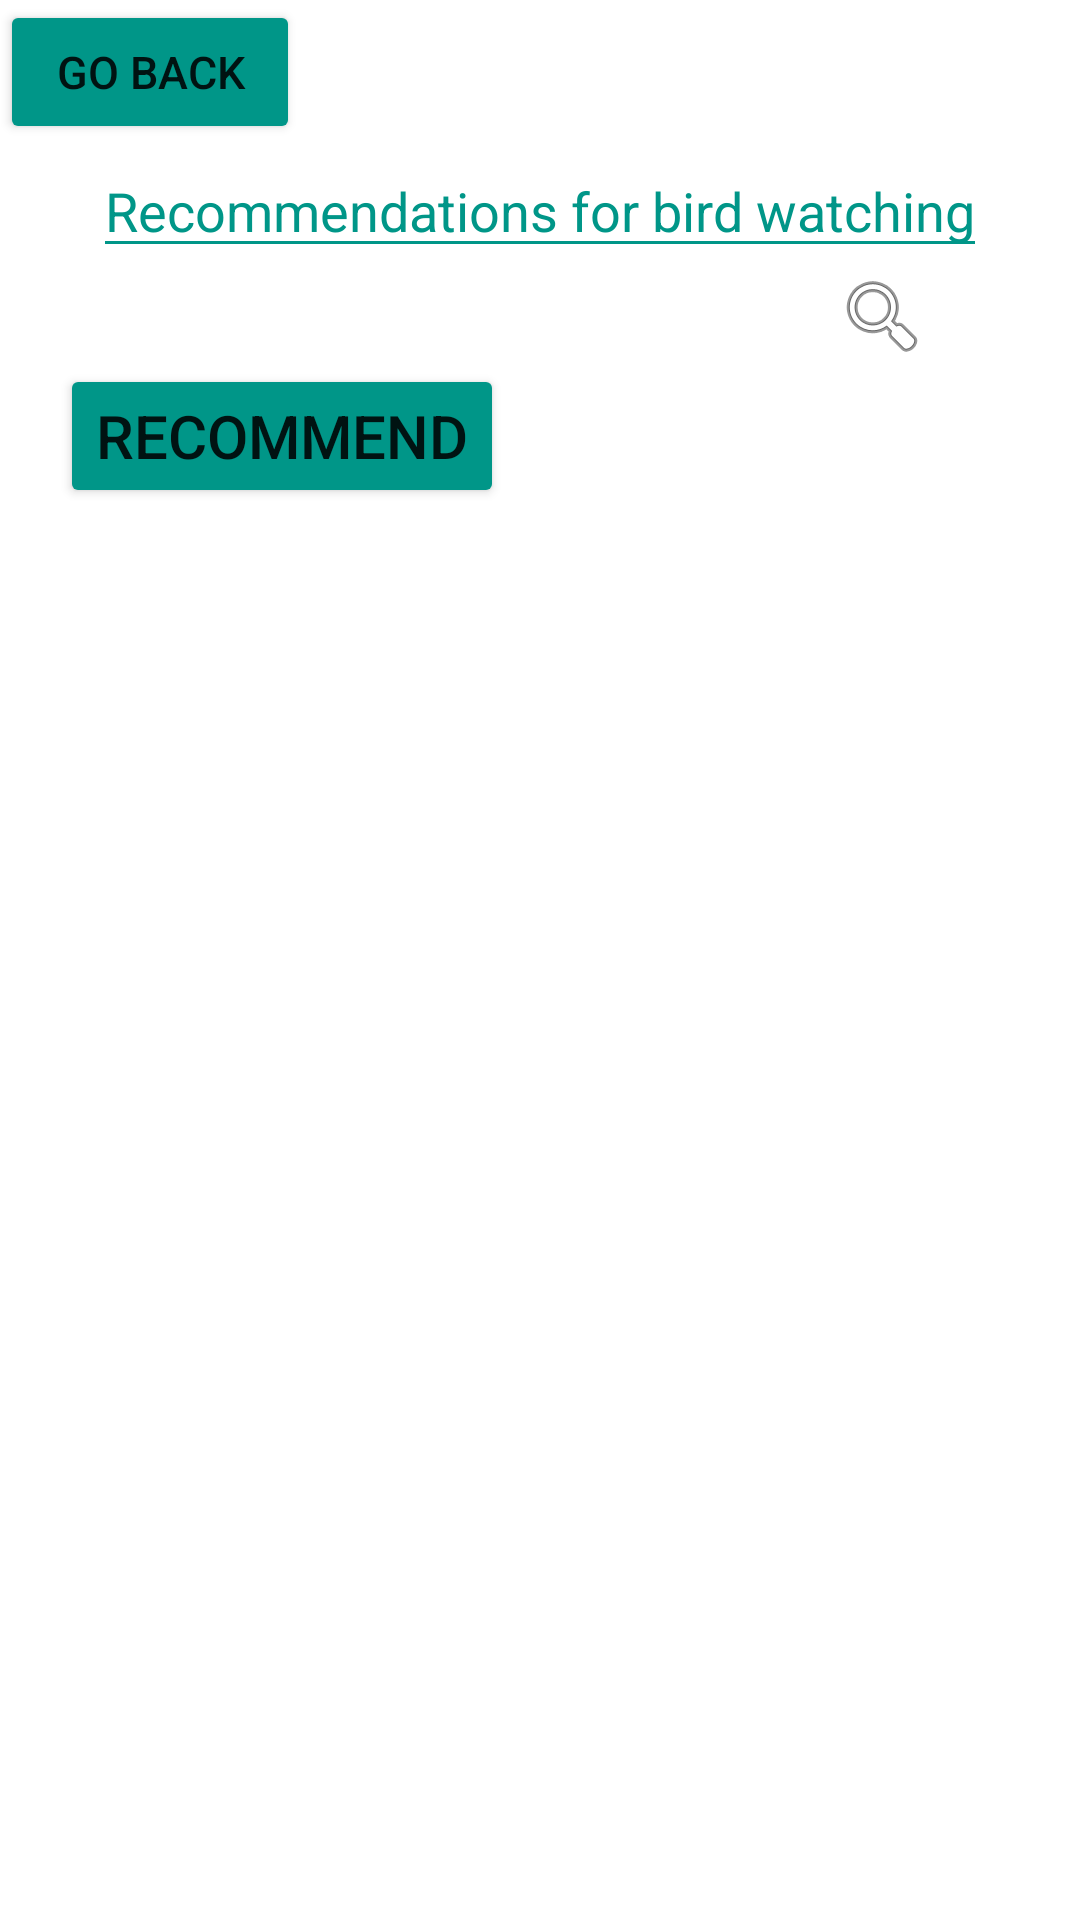

Screen size 1080x1920. Icon name, then its center in pixels as [x,y]:
search: [882,316]
